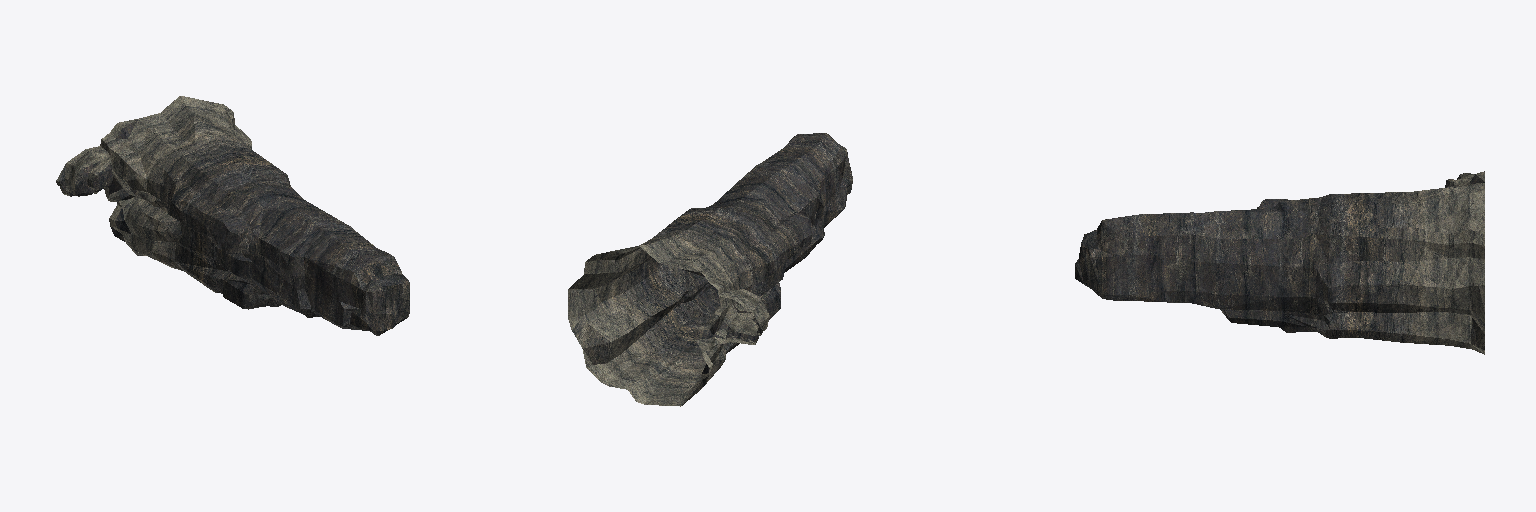
3 views of the same model, side by side, from view 1: azimuth 30°, elevation 25°; view 2: azimuth 150°, elevation 25°; view 3: azimuth 270°, elevation 25° (orthographic).
Parts seen in each view (by area): view 1: tdr_c_rock_a; view 2: tdr_c_rock_a; view 3: tdr_c_rock_a.
Part boxes in pixels (bbox=[...]): tdr_c_rock_a: bbox=[56, 96, 409, 335]; tdr_c_rock_a: bbox=[568, 133, 852, 406]; tdr_c_rock_a: bbox=[1075, 171, 1484, 354].
Size of the model in its own units: 2190 by 1690 by 3982.
1 materials, 1 textured.